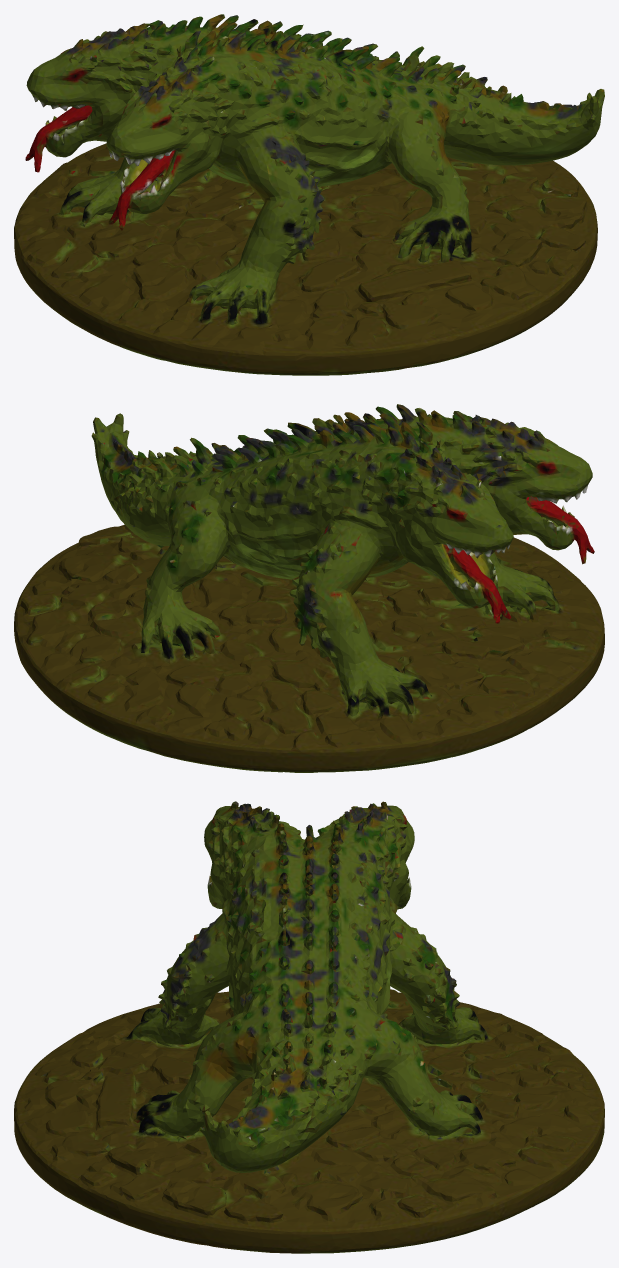
The model's file is lagarto_carniceiro.glb.
3 views of the same model, one above another, from view 1: azimuth 30°, elevation 25°; view 2: azimuth 150°, elevation 25°; view 3: azimuth 270°, elevation 25° (orthographic).
Parts seen in each view (by area): view 1: tmpzza2b4ui.ply; view 2: tmpzza2b4ui.ply; view 3: tmpzza2b4ui.ply.
Part boxes in pixels (left/top/right/bottom): tmpzza2b4ui.ply: left=14, top=14, right=604, bottom=375; tmpzza2b4ui.ply: left=14, top=404, right=604, bottom=772; tmpzza2b4ui.ply: left=14, top=801, right=604, bottom=1253.
Bounding box in the file's own units: 1.96 × 0.9471 × 1.96.
Materials: 1 (1 with a texture image).
